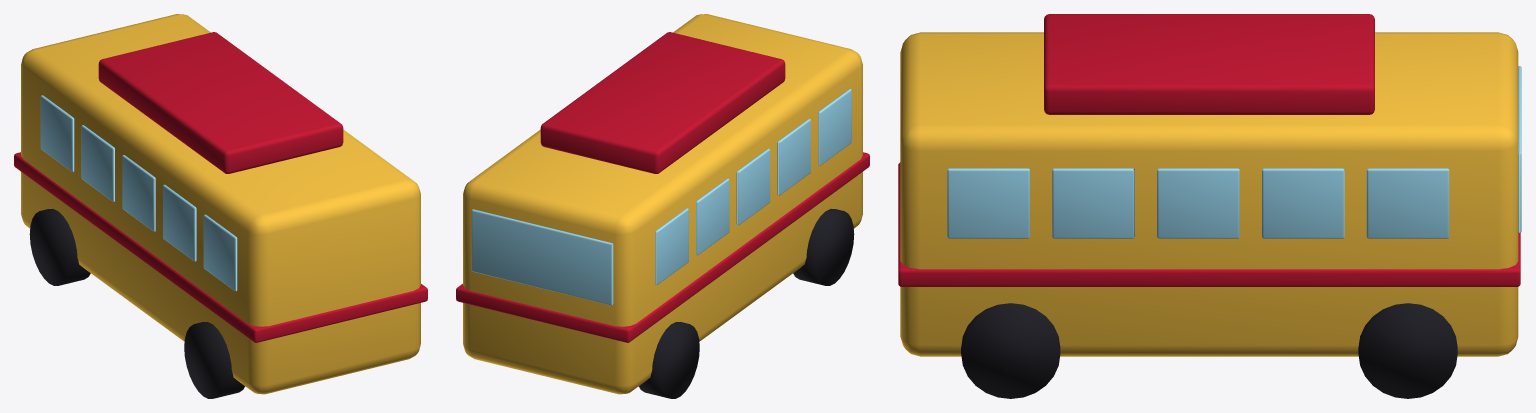
The model's file is SM_TourBus.fbx.
3 renders of one model, left to right at view 1: azimuth 30°, elevation 25°; view 2: azimuth 150°, elevation 25°; view 3: azimuth 270°, elevation 25°, orthographic. The views are drawn at different scales.
Visible parts, largest first — view 1: SM_TourBus; view 2: SM_TourBus; view 3: SM_TourBus.
Boxes of the visible parts, left/top/right/bottom form: SM_TourBus: left=14, top=14, right=427, bottom=398; SM_TourBus: left=456, top=14, right=869, bottom=398; SM_TourBus: left=898, top=14, right=1521, bottom=398.
Size of what is drawn, in the model's own units: 2.55 by 2.9 by 5.65.
Materials: 1 (1 with a texture image).
